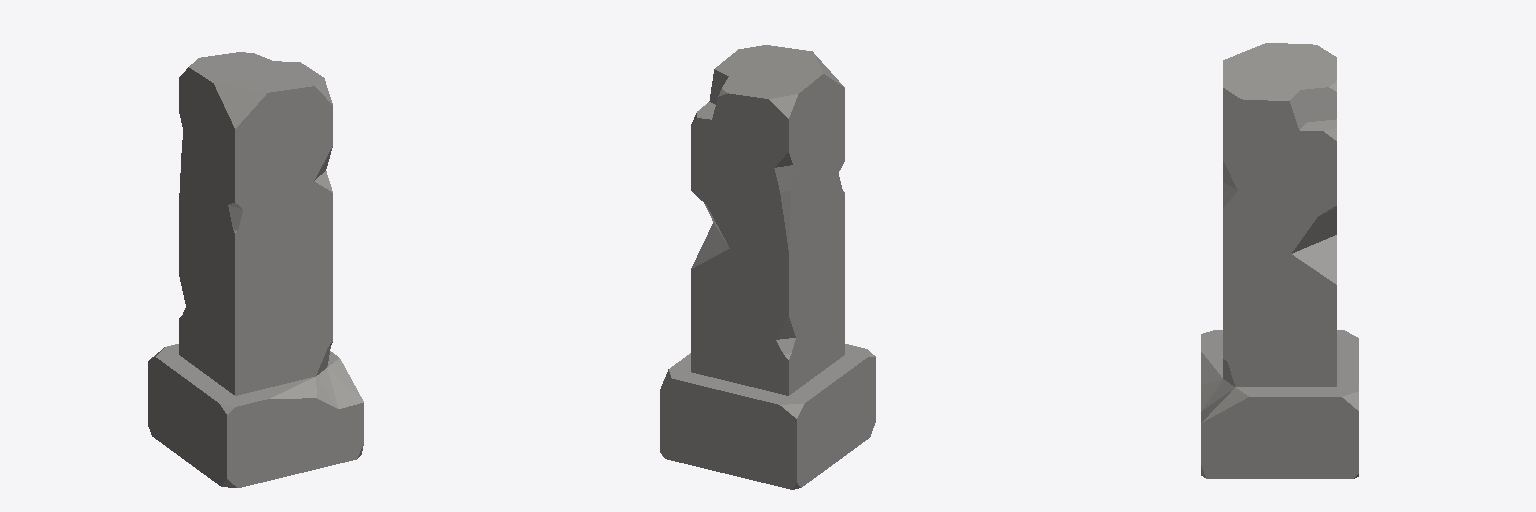
File: Hilly_Prop_Ruins_Pillar_3.obj
The picture shows the model from 3 angles: view 1: azimuth 30°, elevation 25°; view 2: azimuth 150°, elevation 25°; view 3: azimuth 270°, elevation 25°; orthographic projection.
Visible parts, largest first — view 1: object1; view 2: object1; view 3: object1.
Part boxes in pixels (x1,y1,x2,y2): object1: (148, 52, 363, 487); object1: (660, 45, 875, 489); object1: (1201, 43, 1358, 478).
Bounding box in the file's own units: 0.7 × 1.85 × 0.7.